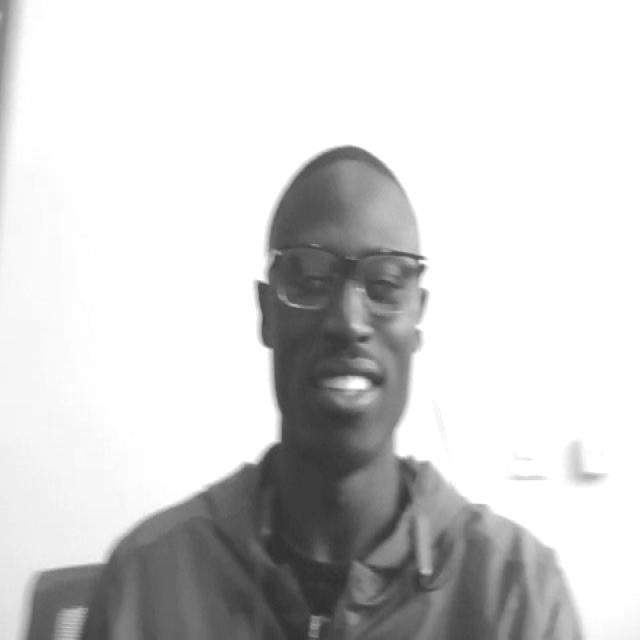real: (256, 151, 426, 472)
